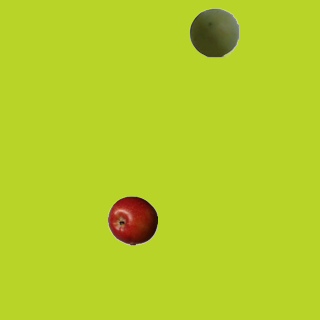Apple Braeburn: (107, 195, 157, 245)
Grape White 4: (188, 7, 238, 57)
